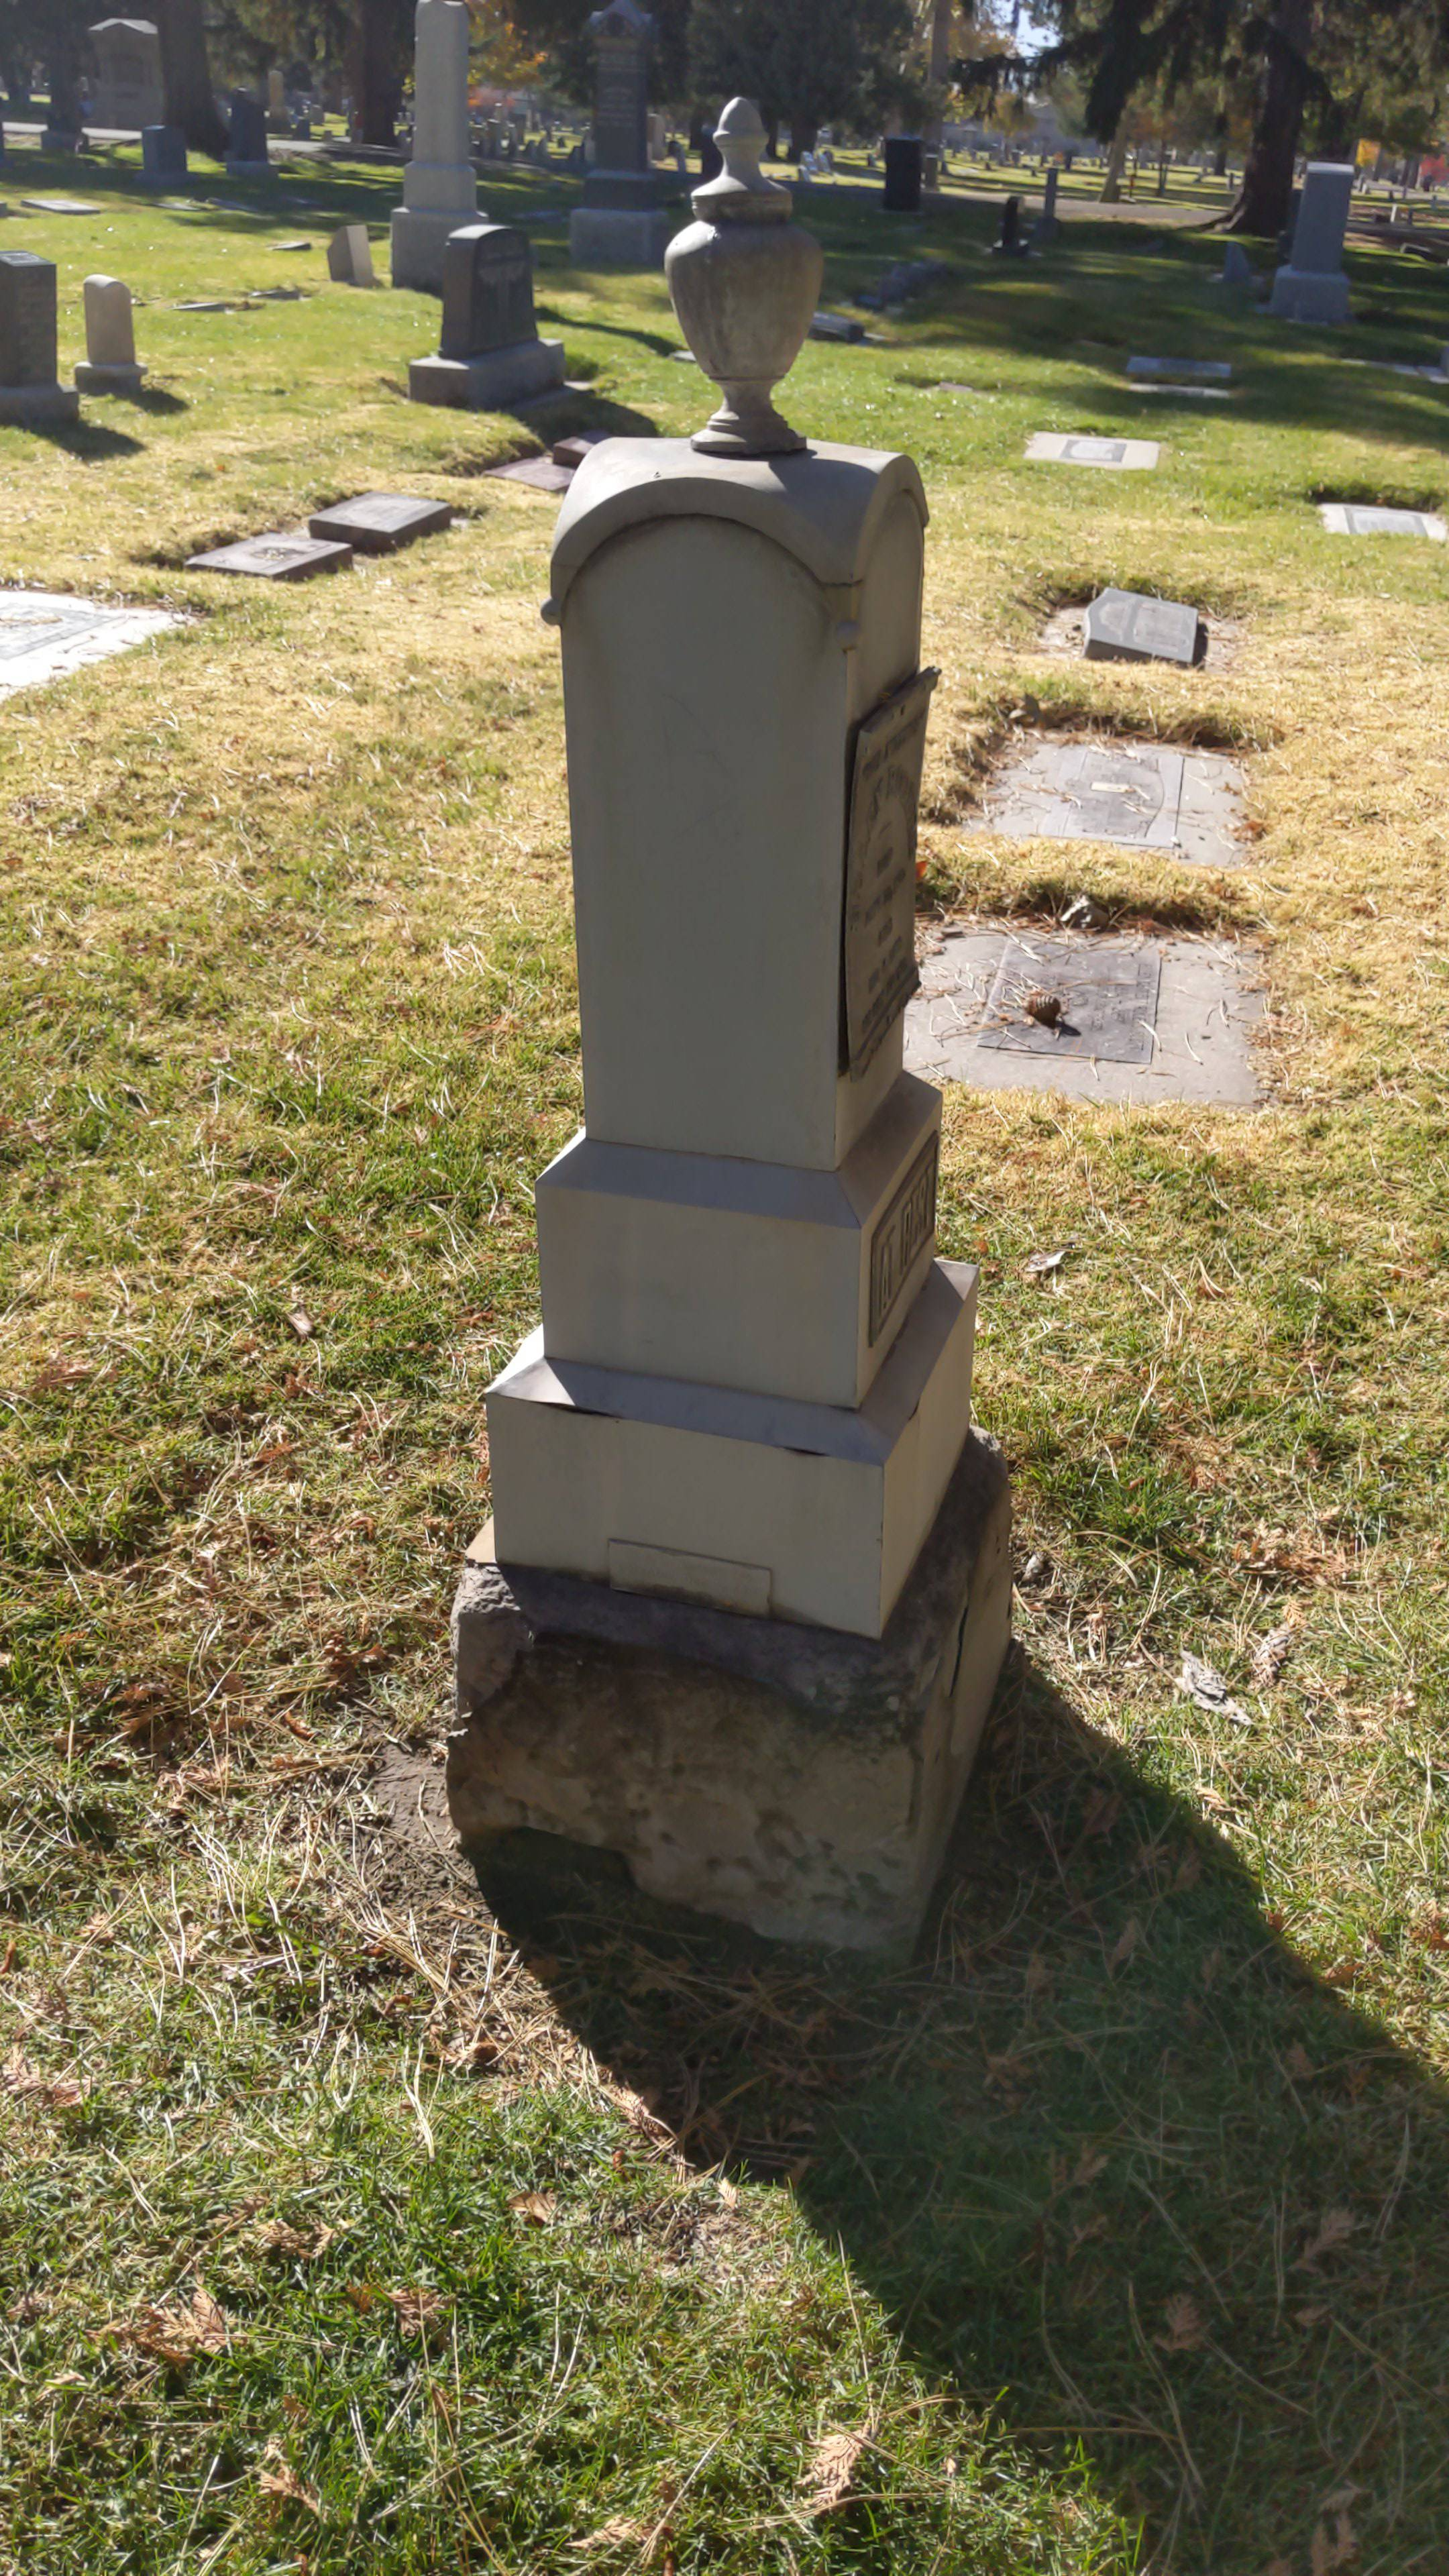obelisk: (488, 127, 966, 1645)
